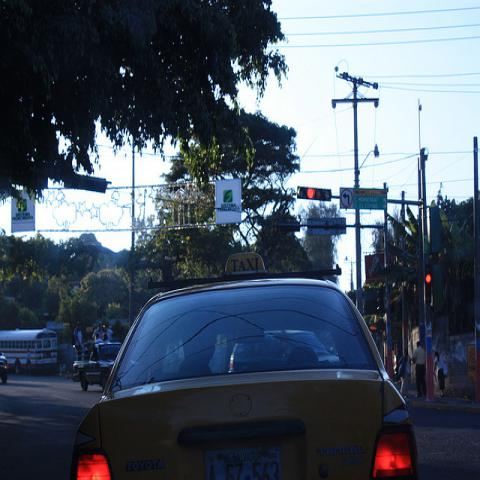bus: (0, 330, 58, 374)
car: (71, 278, 419, 468), (0, 350, 8, 384)
truck: (74, 342, 122, 390)
